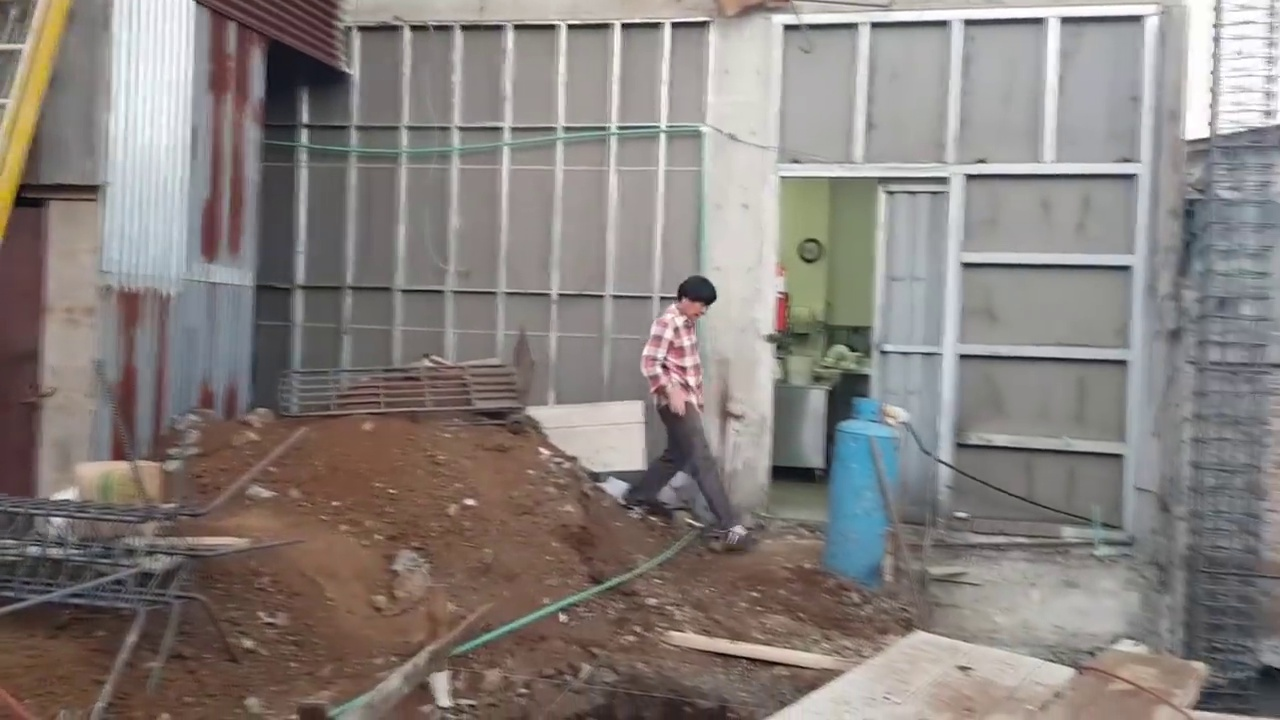helmet-off: (674, 280, 715, 320)
person: (637, 265, 737, 555)
